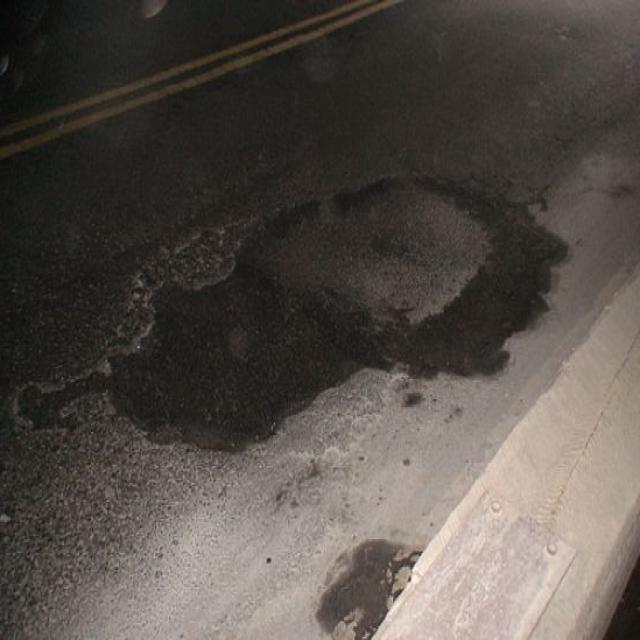Pothole: (85, 166, 575, 455)
